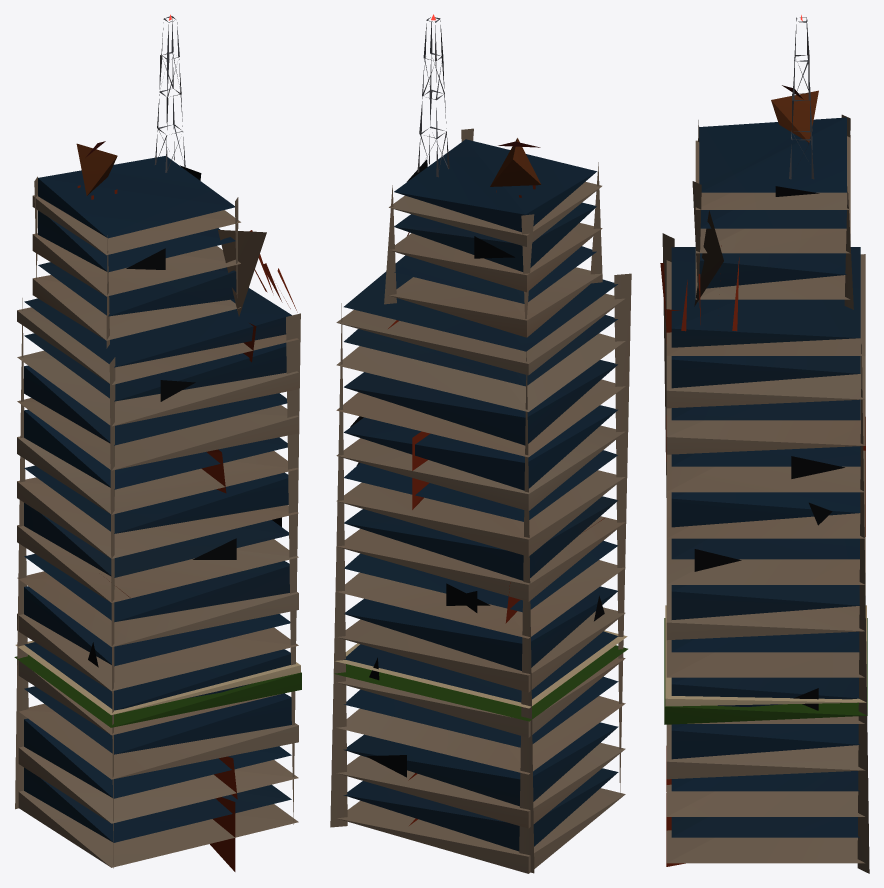
The model's file is tb_tower_glass.three-web-toon.lod25.glb.
3 views of the same model, side by side, from view 1: azimuth 30°, elevation 25°; view 2: azimuth 150°, elevation 25°; view 3: azimuth 270°, elevation 25° (orthographic). The views are drawn at different scales.
Parts seen in each view (by area): view 1: tower_glass_body_lod; view 2: tower_glass_body_lod; view 3: tower_glass_body_lod.
Part boxes in pixels (x1=…): tower_glass_body_lod: x1=14, y1=14, x2=301, y2=871; tower_glass_body_lod: x1=330, y1=14, x2=631, y2=873; tower_glass_body_lod: x1=660, y1=15, x2=869, y2=873.
Bounding box in the file's own units: 16.64 × 66.21 × 14.71.
